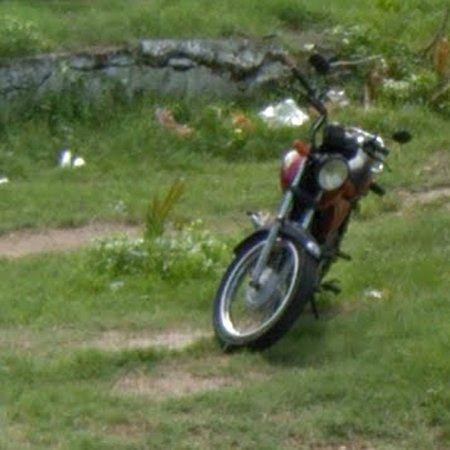motorcycles: (214, 69, 390, 348)
